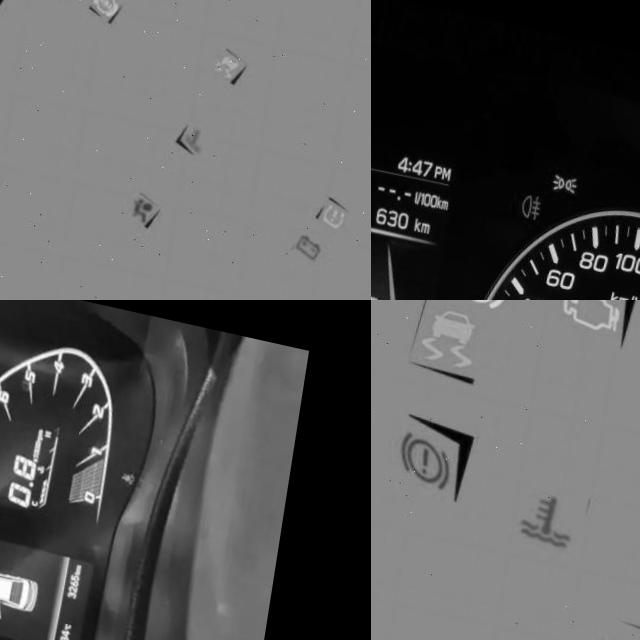Seat Belt: (125, 451, 142, 468)
